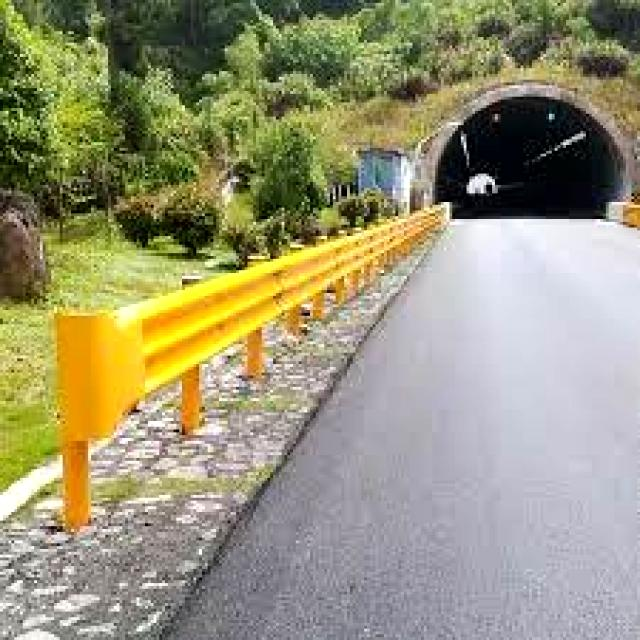Guard rail: (59, 211, 442, 441)
